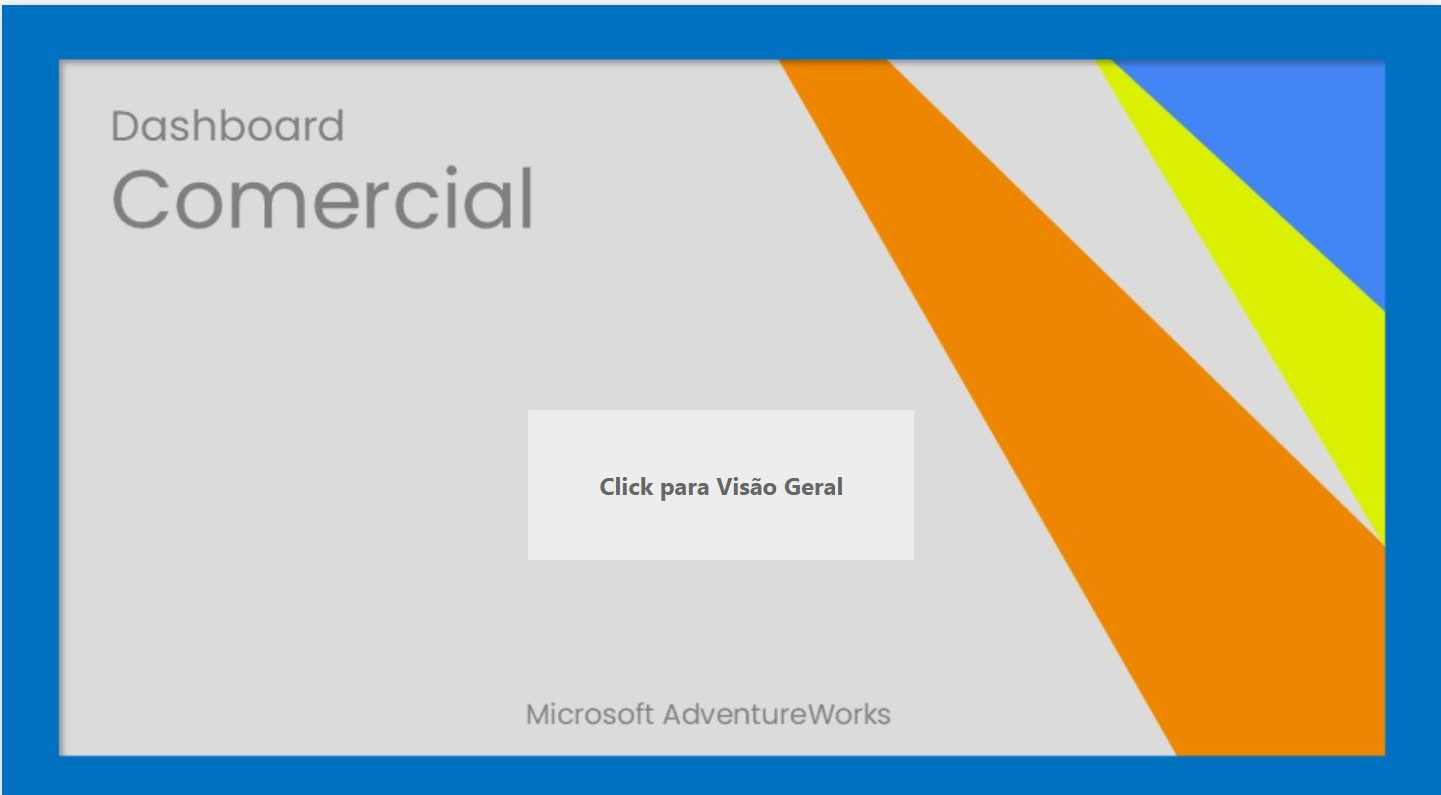

This screenshot's page, from the dashboard's own definition file:
{"tool":"powerbi","page":{"name":"Home","canvas":[1280,720],"ordinal":0},"visuals":[{"type":"actionButton","box":[467.8,360,343.3,133.3],"z":0}]}

Visuals, with their boxes in screenshot pixels (x1, y1, x2, y2), scaled from the page's 1280x720 canvas onto the 1441x795 screenshot:
actionButton: x1=527 y1=398 x2=913 y2=545
